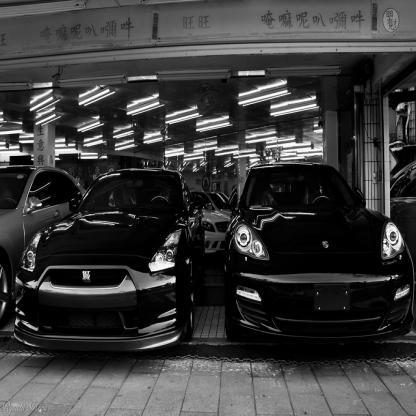car: (9, 144, 218, 380), (216, 154, 416, 355)
